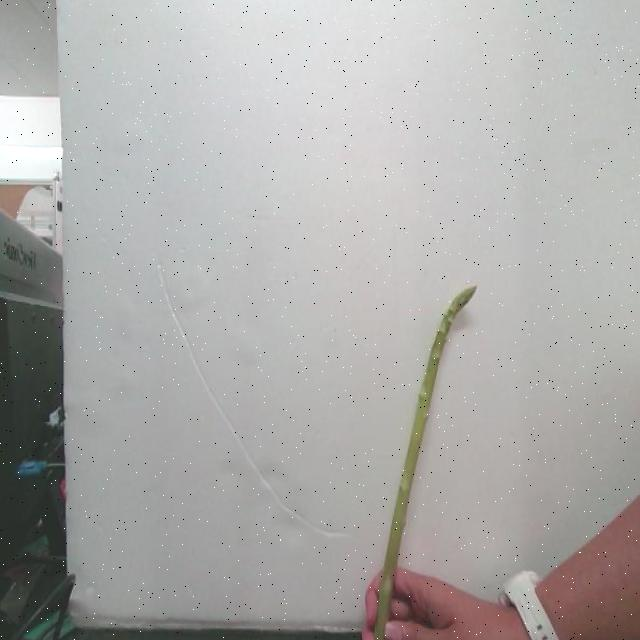aspargus: (361, 287, 477, 640)
